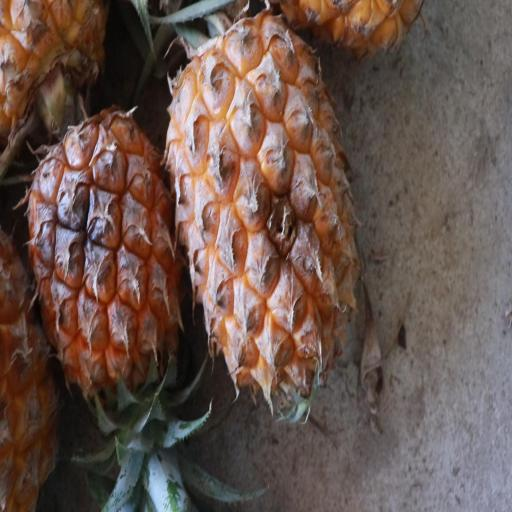Pineapple - v8 v1: (161, 0, 368, 419), (13, 121, 179, 435), (3, 492, 6, 497)
